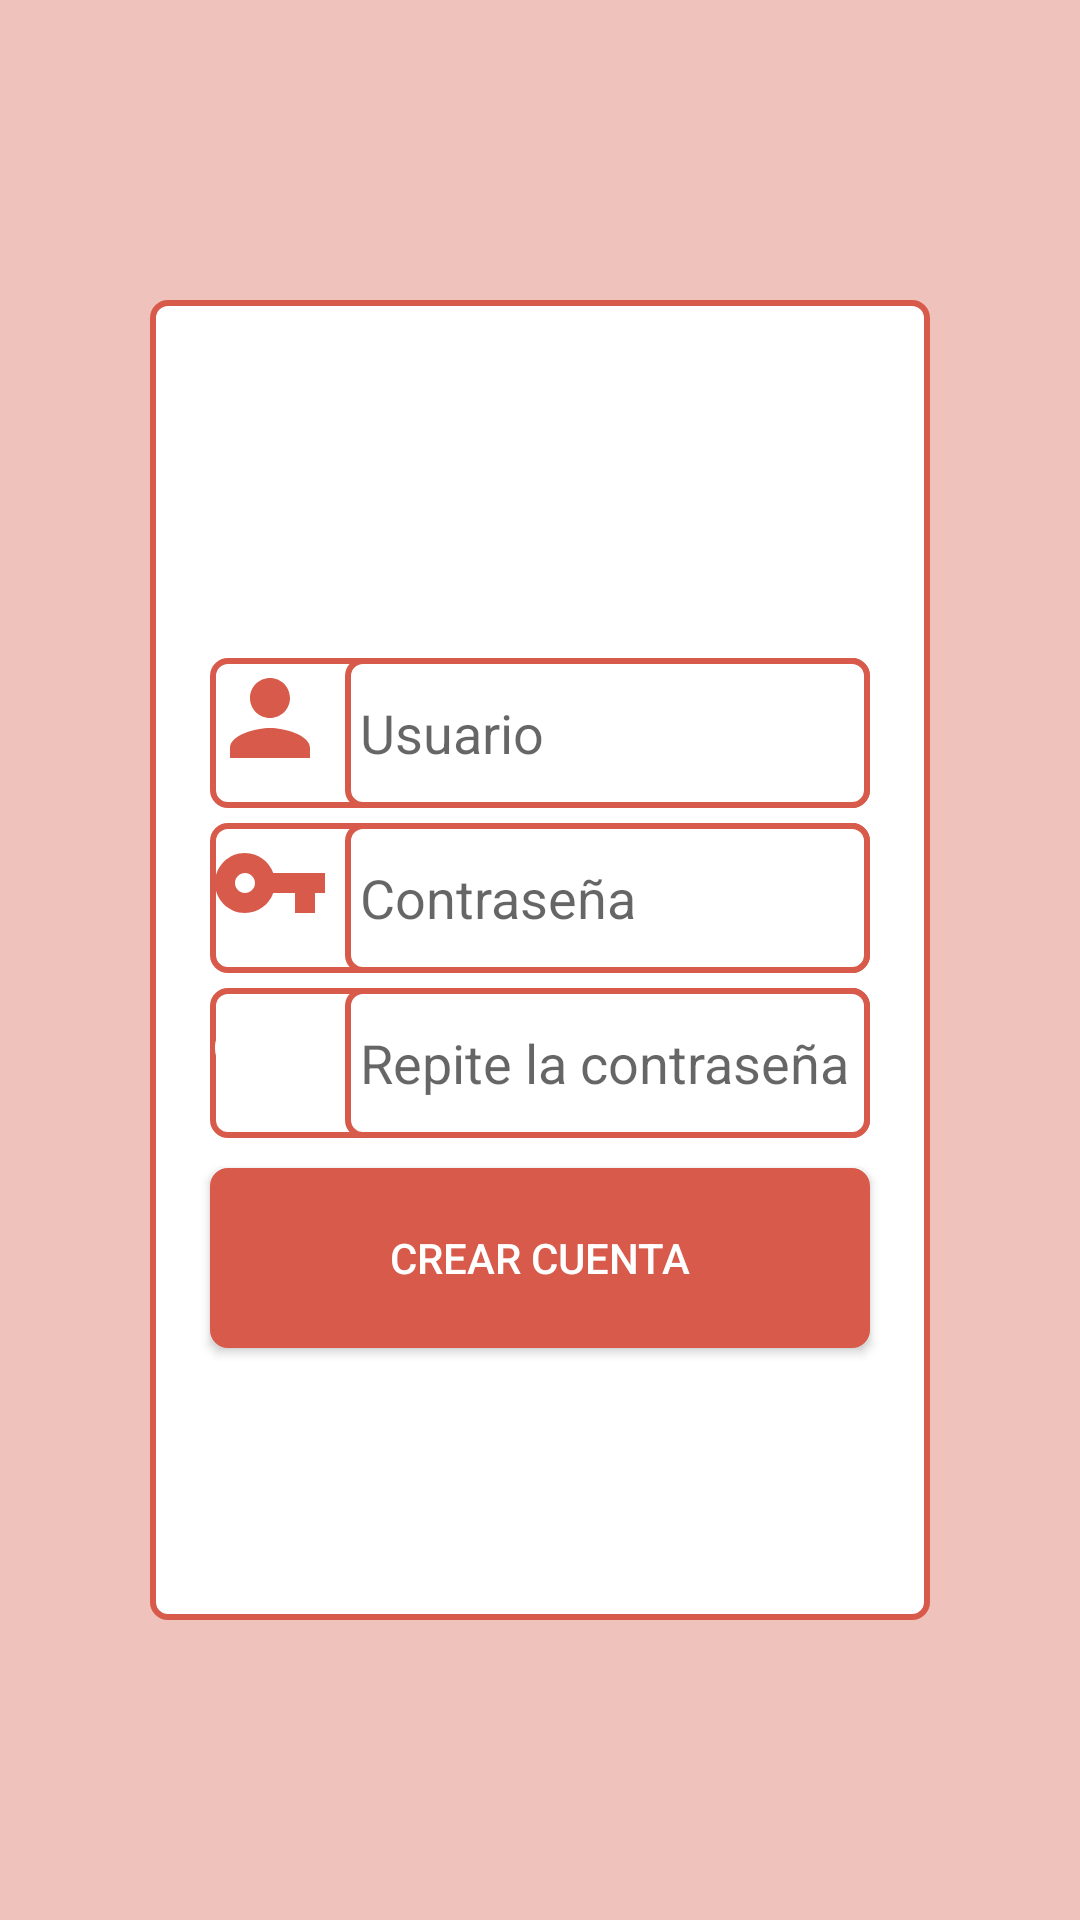

Screen size 1080px×1920px. Icon name, then its center in pixels as (x,y):
person: (270,718)
